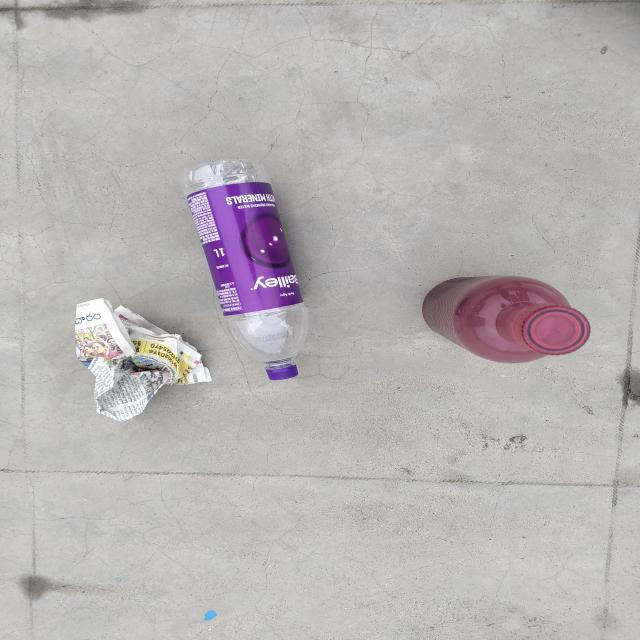paper: (75, 298, 214, 422)
plastic: (186, 157, 308, 380), (420, 276, 592, 364)
